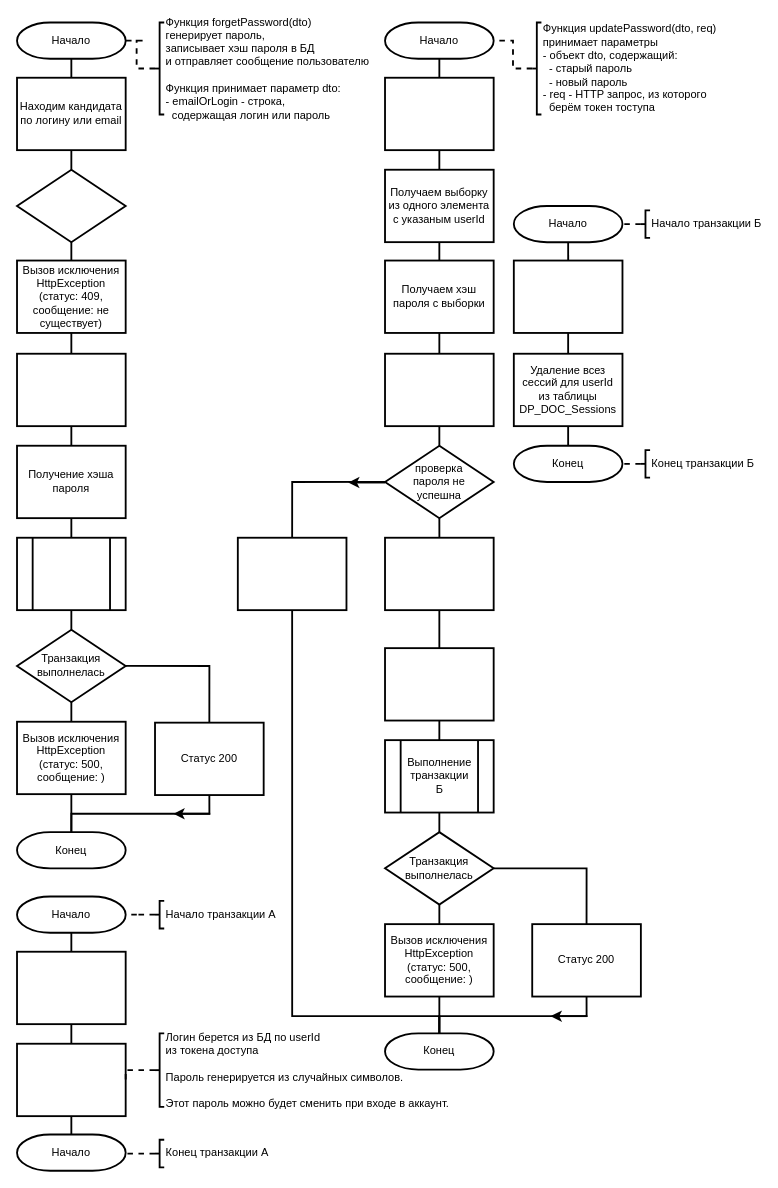
Image size: 778x1188. Some labels were removed from this diagram. The centre of each missing label's shape, as x and y in pixels:
"Вызов исключения HttpException (Статус 409, сообщение: не тот старый пароль)" belongs at (291,573).
"Выполнение транзакции А" belongs at (71,573).
"Генерация пароля" belongs at (71,389).
"Кандидат найден" belongs at (71,205).
"Отпрваляем сообщение на почту с логином и паролем" belongs at (71,1079).
"Получаем userId из токена доступа" belongs at (439,113).
"Получаем новый пароль из dto" belongs at (439,573).
"Получаем хэш нового пароля" belongs at (439,684).
"Сохранение нового хэша пароля по userId в таблицу DP_CTL_Users" belongs at (567,296).
"Сохраняем пользователю новый хэш пароля в таблицу DP_CTL_Users" belongs at (71,987).
"Сравниваем функцией старый пароль из dto и хэш пароля" belongs at (439,389).
